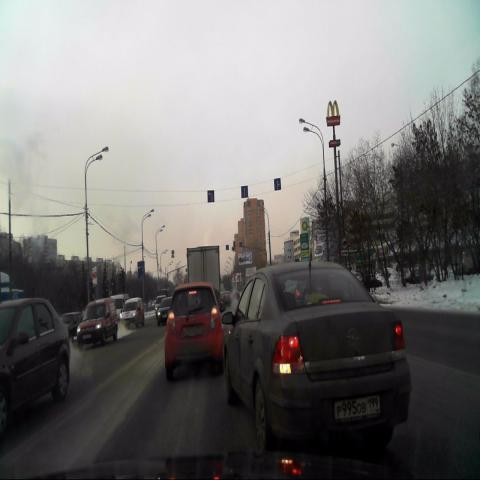5_15_2: (207, 190, 215, 203), (274, 177, 281, 190), (241, 186, 248, 198)
